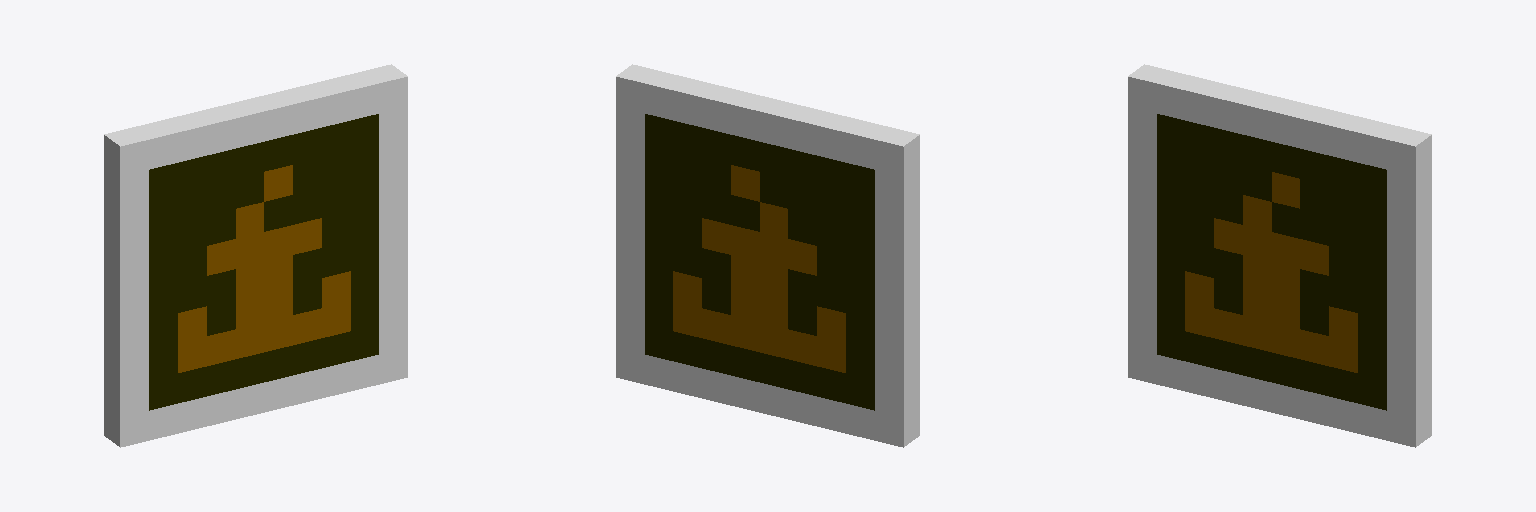
3 views of the same model, side by side, from view 1: azimuth 30°, elevation 25°; view 2: azimuth 150°, elevation 25°; view 3: azimuth 330°, elevation 25° (orthographic).
Visible parts, largest first — view 1: Poster_40; view 2: Poster_40; view 3: Poster_40.
Boxes of the visible parts, x1=… form: Poster_40: x1=104, y1=64, x2=407, y2=447; Poster_40: x1=616, y1=64, x2=919, y2=447; Poster_40: x1=1128, y1=64, x2=1431, y2=447.
Bounding box in the file's own units: 1 × 1 × 0.1.
Materials: 1 (1 with a texture image).